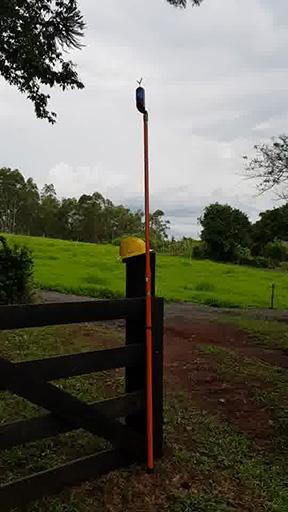Detector_Tensao_Contato: (134, 76, 147, 115)
Vara_Manobra: (140, 112, 156, 468)
